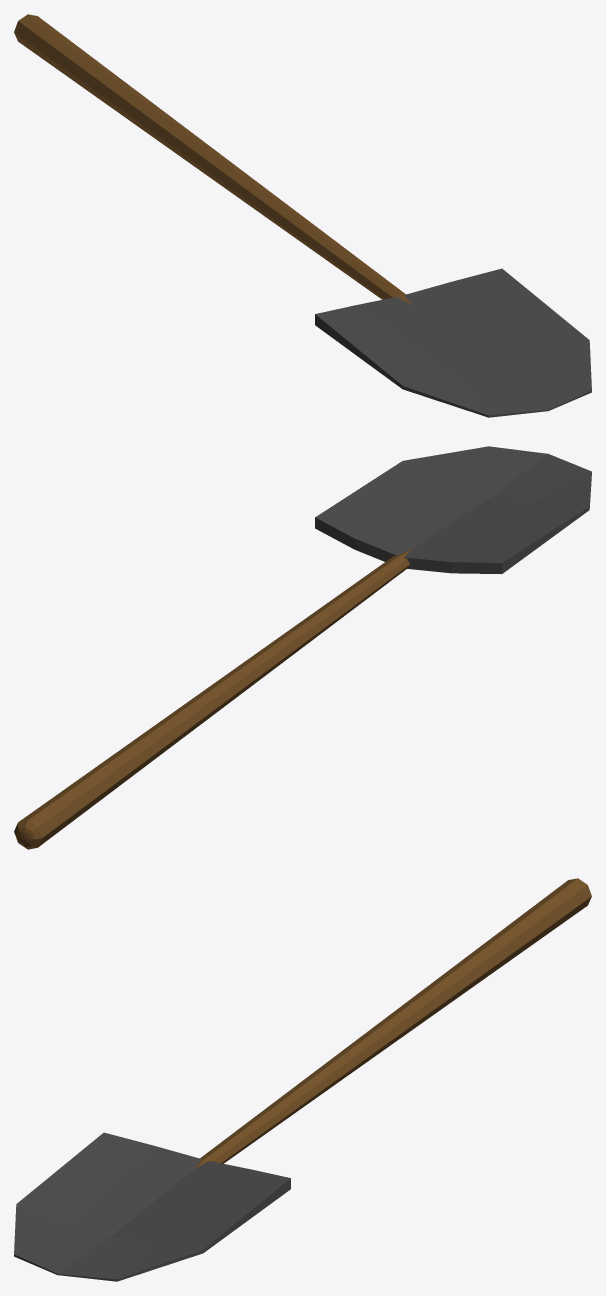
The model's file is Shovel.fbx.
3 renders of one model, top to bottom at view 1: azimuth 30°, elevation 25°; view 2: azimuth 150°, elevation 25°; view 3: azimuth 330°, elevation 25°, orthographic.
Parts seen in each view (by area): view 1: Shovel; view 2: Shovel; view 3: Shovel.
Boxes of the visible parts, <box> form: Shovel: <box>14,14,591,417</box>; Shovel: <box>14,446,591,849</box>; Shovel: <box>14,878,591,1281</box>.
Size of the model in its own units: 147 by 23.16 by 715.
